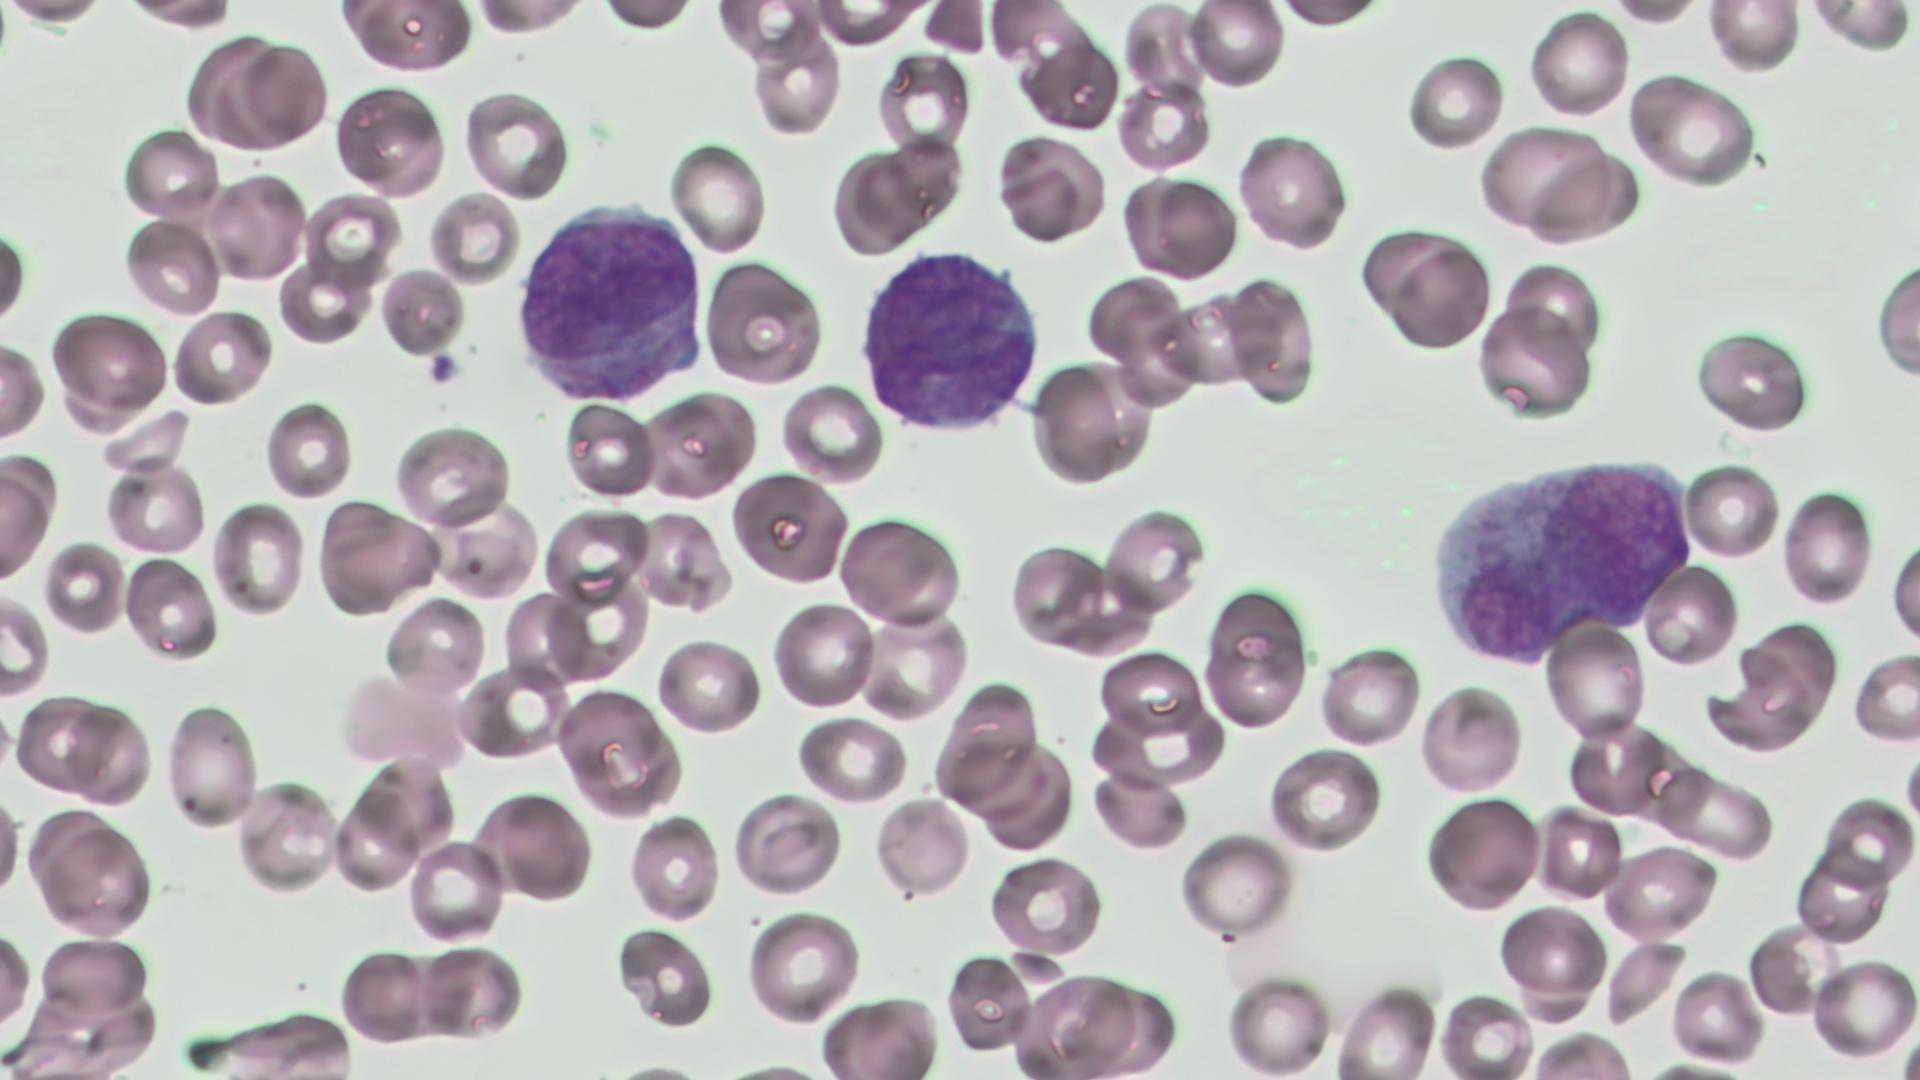Platelets: (424, 350, 463, 390)
RBC: (702, 257, 825, 389), (553, 684, 672, 814), (1628, 69, 1756, 187), (1477, 122, 1614, 231), (1424, 791, 1542, 914), (1235, 127, 1348, 255), (315, 500, 440, 615), (1475, 301, 1594, 421), (838, 512, 961, 628), (729, 470, 848, 589), (472, 788, 594, 904), (1692, 322, 1815, 437), (744, 907, 861, 1027), (857, 608, 970, 723), (42, 825, 154, 940), (164, 700, 261, 832), (995, 131, 1106, 246), (1545, 620, 1647, 745), (1524, 4, 1632, 122), (393, 423, 512, 530), (1030, 360, 1131, 486), (235, 776, 341, 896), (334, 82, 444, 196), (1057, 976, 1181, 1077), (461, 87, 570, 201), (1268, 743, 1380, 853), (770, 597, 877, 712), (1006, 537, 1112, 653), (730, 789, 842, 898), (48, 308, 169, 408), (668, 138, 768, 258), (652, 633, 764, 740), (1175, 833, 1289, 938), (1417, 681, 1522, 795), (456, 661, 573, 763), (1388, 239, 1490, 356), (985, 854, 1102, 956), (184, 33, 285, 151), (208, 168, 310, 284), (1228, 274, 1318, 405), (1102, 501, 1204, 615), (1525, 148, 1642, 247), (211, 498, 306, 618), (1496, 901, 1610, 1001), (541, 502, 651, 605), (1779, 487, 1872, 608), (778, 381, 884, 487), (642, 395, 748, 501), (1809, 956, 1917, 1060), (383, 594, 488, 700), (1205, 622, 1306, 732), (1222, 974, 1333, 1074), (1654, 769, 1774, 860), (406, 837, 507, 944), (1642, 561, 1742, 669), (1317, 643, 1419, 748), (1604, 842, 1714, 938), (751, 27, 844, 140), (875, 49, 973, 156), (816, 991, 939, 1076), (626, 814, 720, 925), (9, 692, 110, 795), (421, 941, 524, 1042), (1402, 50, 1503, 153), (1680, 459, 1779, 564), (614, 922, 712, 1028), (793, 714, 905, 806), (874, 793, 972, 898), (123, 554, 218, 662), (103, 457, 208, 554), (562, 399, 660, 501), (1820, 791, 1916, 895), (1143, 174, 1238, 278), (238, 40, 329, 148), (122, 215, 221, 314), (35, 934, 150, 1019), (342, 3, 474, 77), (170, 309, 271, 405), (1334, 982, 1436, 1077), (65, 701, 154, 809), (932, 727, 1042, 814), (943, 948, 1031, 1056), (340, 943, 430, 1048), (303, 191, 398, 289), (121, 124, 219, 219), (1791, 850, 1890, 944), (1671, 967, 1764, 1067), (1534, 801, 1624, 903), (1097, 649, 1204, 734), (275, 257, 376, 347), (1435, 989, 1536, 1079), (264, 398, 354, 499), (1182, 1, 1284, 90), (427, 190, 518, 288), (1117, 77, 1210, 170), (335, 789, 419, 891), (1087, 766, 1189, 850), (1120, 0, 1208, 97), (499, 589, 585, 688), (40, 539, 126, 637), (377, 266, 465, 355), (1702, 2, 1802, 78), (0, 456, 51, 587), (1851, 650, 1920, 741), (0, 586, 52, 703), (1800, 1, 1914, 54), (1874, 254, 1918, 390), (809, 0, 925, 48), (0, 336, 48, 443), (1884, 531, 1920, 652), (0, 922, 35, 1040), (119, 0, 237, 31), (594, 0, 700, 31), (1274, 0, 1384, 29)
WBC: (1420, 454, 1702, 668), (512, 199, 707, 406), (855, 245, 1048, 438)
